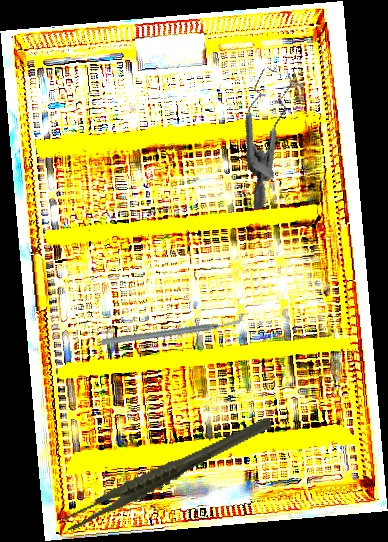Chopper: (99, 278, 247, 381)
Speculum: (205, 57, 340, 211)
Tissue Forceps: (50, 414, 285, 534)
